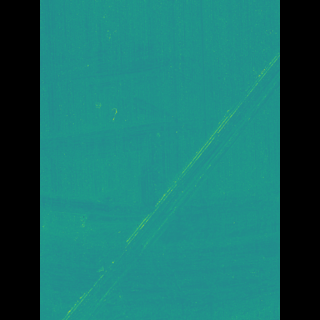Loch: (87, 48, 250, 320), (68, 186, 250, 320), (69, 38, 164, 95), (67, 126, 206, 160)
